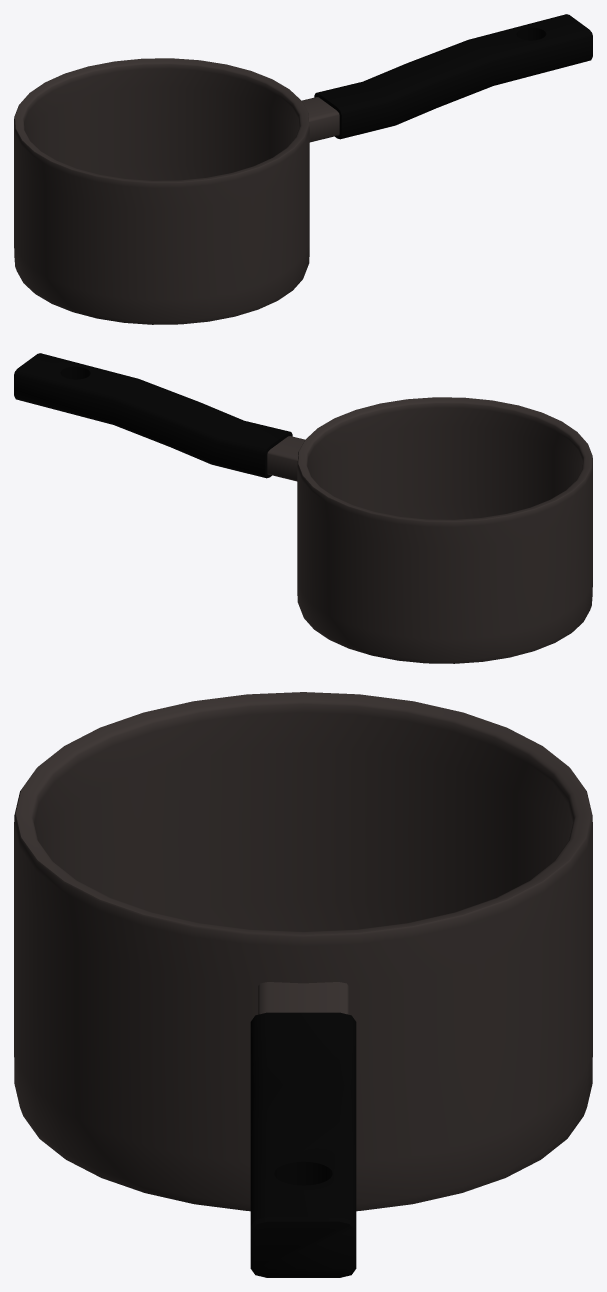
Rendered from HP_sauce_pot1.obj.
The picture shows the model from 3 angles, top to bottom: view 1: azimuth 30°, elevation 25°; view 2: azimuth 150°, elevation 25°; view 3: azimuth 270°, elevation 25°; orthographic projection. The views are drawn at different scales.
Visible parts, largest first — view 1: HP_sauce_pot1.001; view 2: HP_sauce_pot1.001; view 3: HP_sauce_pot1.001.
Boxes of the visible parts, left/top/right/bottom form: HP_sauce_pot1.001: left=14, top=14, right=592, bottom=324; HP_sauce_pot1.001: left=14, top=353, right=592, bottom=663; HP_sauce_pot1.001: left=14, top=692, right=592, bottom=1277.
Size of the model in its own units: 0.5581 by 0.1393 by 0.2619.
